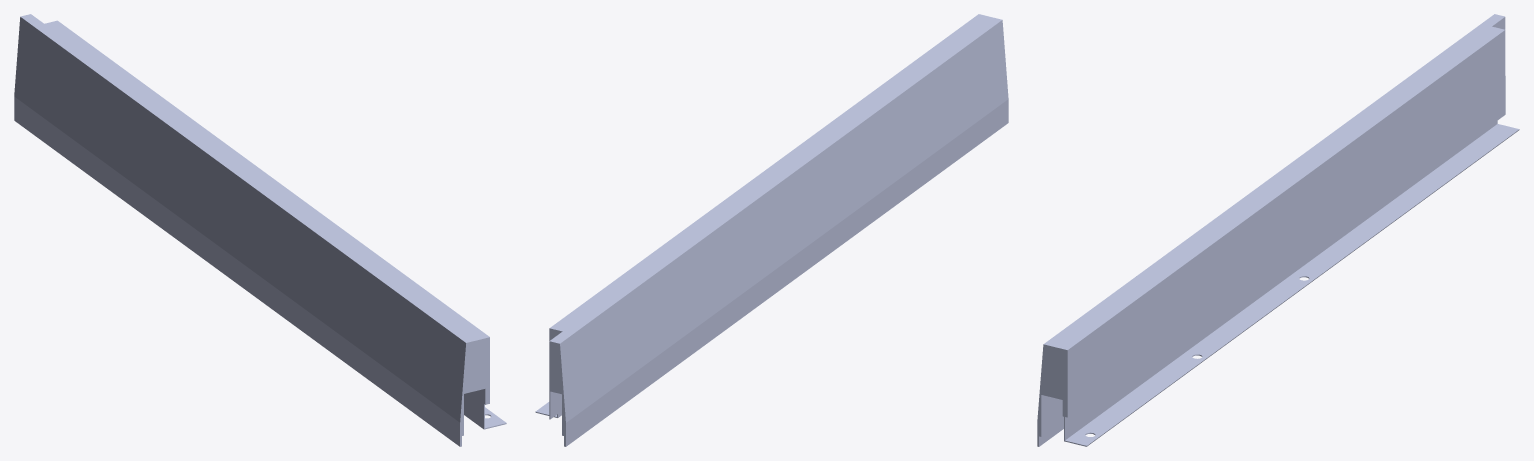
Rendered from mv-kava-N550-p.glb.
3 renders of one model, left to right at view 1: azimuth 30°, elevation 25°; view 2: azimuth 150°, elevation 25°; view 3: azimuth 330°, elevation 25°, orthographic.
Visible parts, largest first — view 1: 49073351; view 2: 49073351; view 3: 49073351.
Part boxes in pixels (x1,y1,x2,y2): 49073351: [14, 14, 506, 446]; 49073351: [535, 14, 1008, 446]; 49073351: [1037, 14, 1519, 446].
Bounding box in the file's own units: 0.0335 × 0.0685 × 0.5402.
